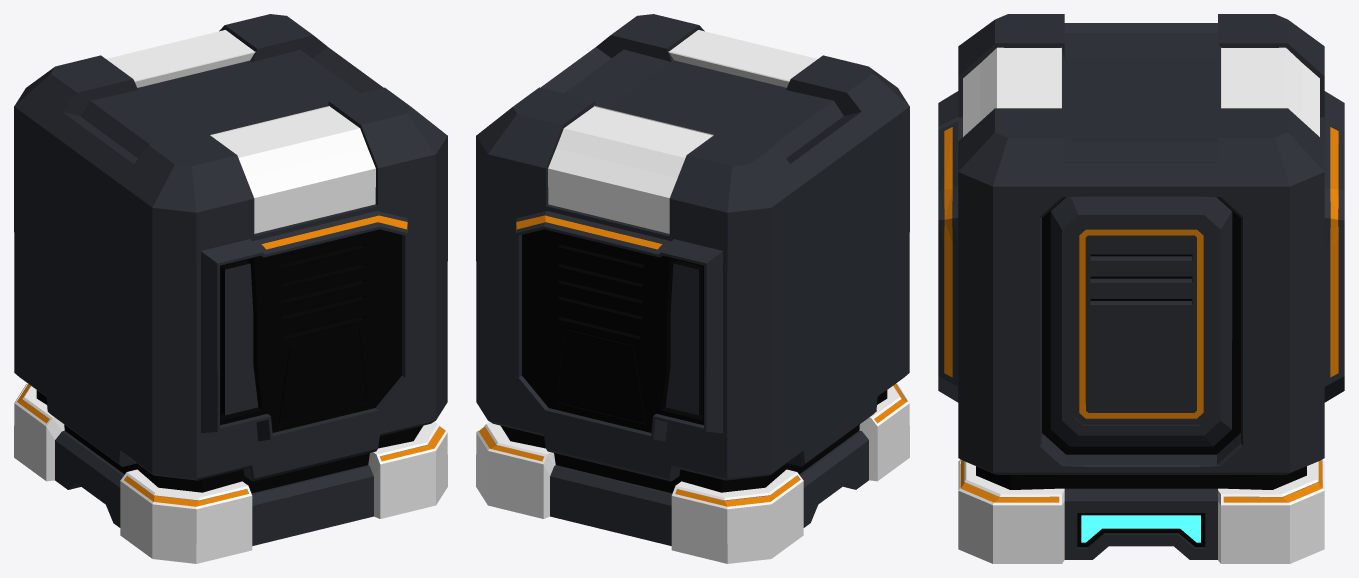
The model's file is SM_MedLab_Sterilizer_Unit.fbx.
3 views of the same model, side by side, from view 1: azimuth 30°, elevation 25°; view 2: azimuth 150°, elevation 25°; view 3: azimuth 270°, elevation 25° (orthographic). The views are drawn at different scales.
Visible parts, largest first — view 1: SM_MedLab_Sterilizer_Unit; view 2: SM_MedLab_Sterilizer_Unit; view 3: SM_MedLab_Sterilizer_Unit.
Boxes of the visible parts, x1,y1,x2,y2 form: SM_MedLab_Sterilizer_Unit: [14, 14, 447, 563]; SM_MedLab_Sterilizer_Unit: [476, 14, 909, 563]; SM_MedLab_Sterilizer_Unit: [938, 14, 1344, 563].
Size of the model in its own units: 80 by 98.91 by 88.66.
